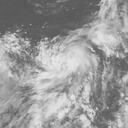cyclone: (25, 37, 100, 93)
